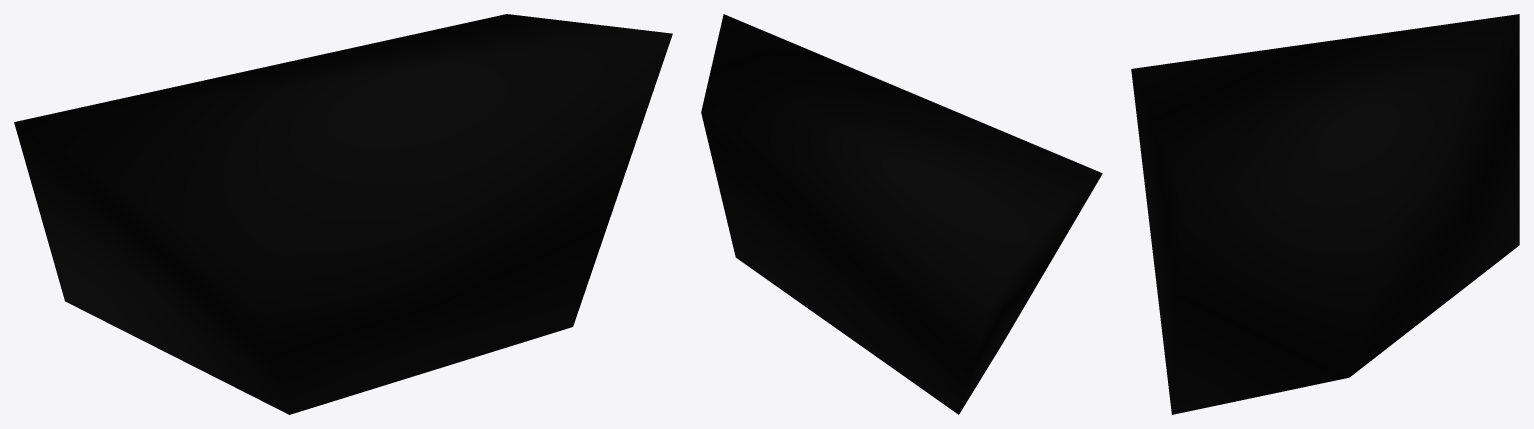
3 renders of one model, left to right at view 1: azimuth 30°, elevation 25°; view 2: azimuth 150°, elevation 25°; view 3: azimuth 270°, elevation 25°, orthographic. The views are drawn at different scales.
Parts seen in each view (by area): view 1: T1L6M005_21; view 2: T1L6M005_21; view 3: T1L6M005_21.
Boxes of the visible parts, x1=… form: T1L6M005_21: x1=14, y1=14, x2=672, y2=414; T1L6M005_21: x1=701, y1=14, x2=1102, y2=414; T1L6M005_21: x1=1131, y1=14, x2=1519, y2=414.
Size of the model in its own units: 0.1631 by 0.0947 by 0.1025.
